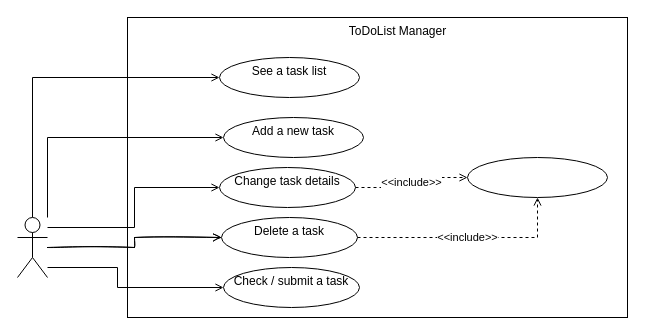
Image size: 645x335. Some labels were removed from this diagram. The shapes that lost their labels are listed below. From the top down, each one's centre as x and y in pixels, then its label:
At pixel 537 177: "find task(-index)".
At pixel 32 247: "User".
